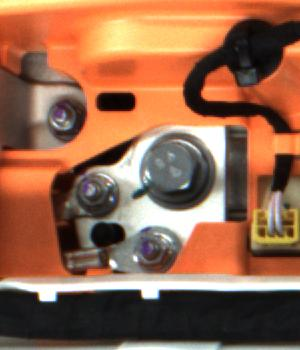nut_b: (137, 128, 217, 213)
screw_s: (127, 228, 177, 271), (73, 176, 120, 218), (44, 94, 79, 140)
